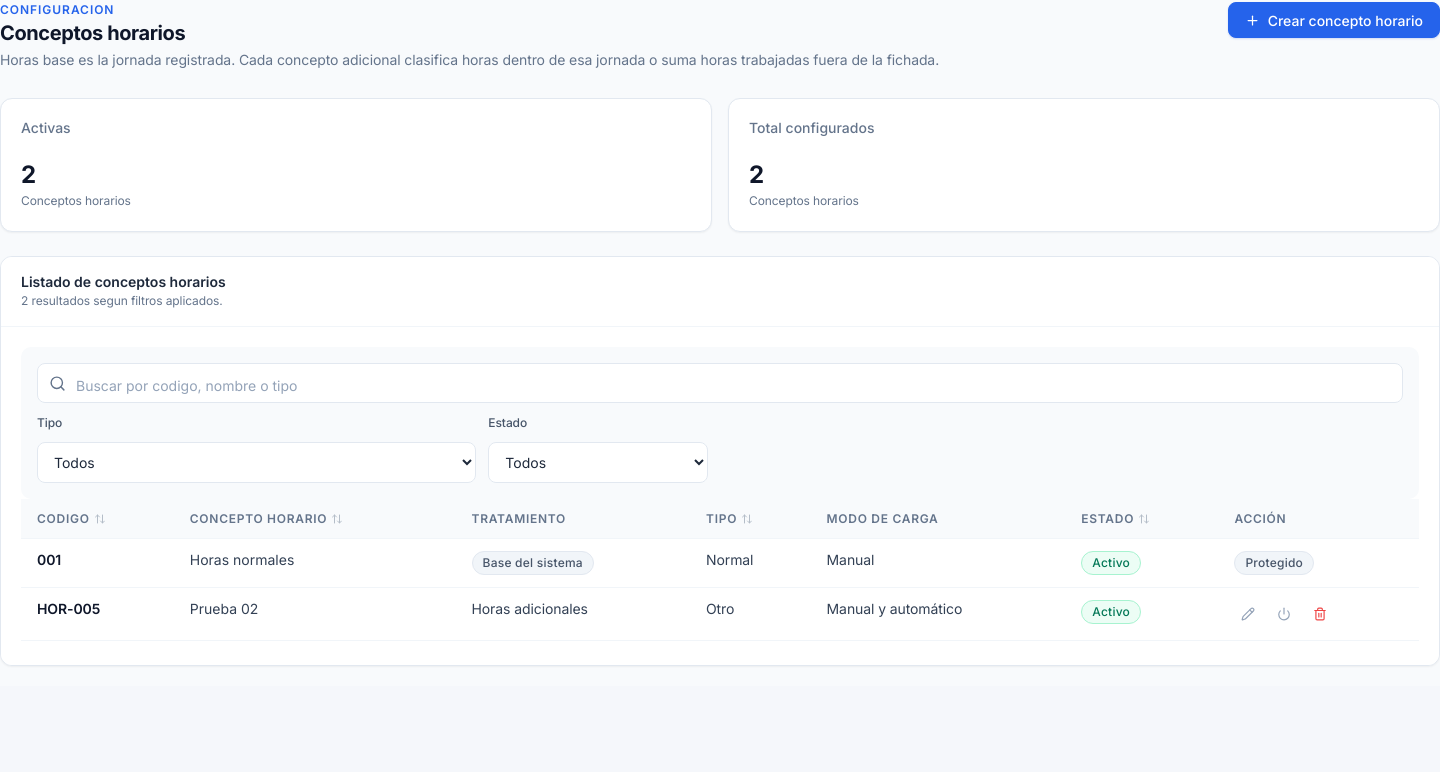
Scenario: HourConceptsPage — corregir tratamiento y eliminar definitivamente › cambiar el tratamiento de un concepto con horas se permite tras confirmar que reinterpreta lo ya cargado
Expected: the text "Prueba 02" is shown, [190,600,258,617]
Step 1. Click the button named "Editar" → coordinates (1248, 614), box [1234,600,1262,628]
(page scrolled)
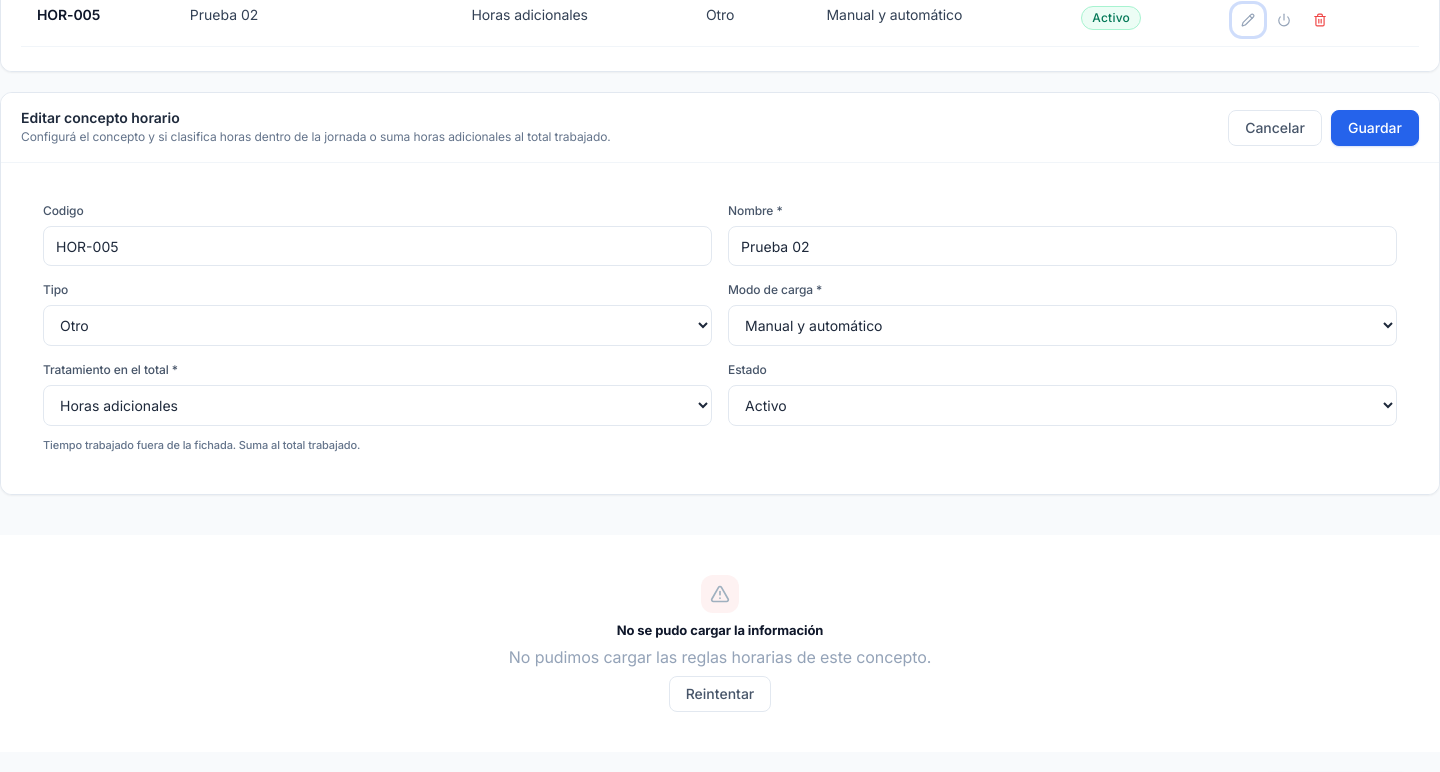
Step 2. Select "Dentro de la jornada" in the dropdown labelled "Tratamiento en el total" → coordinates (378, 406), box [43,385,712,426]
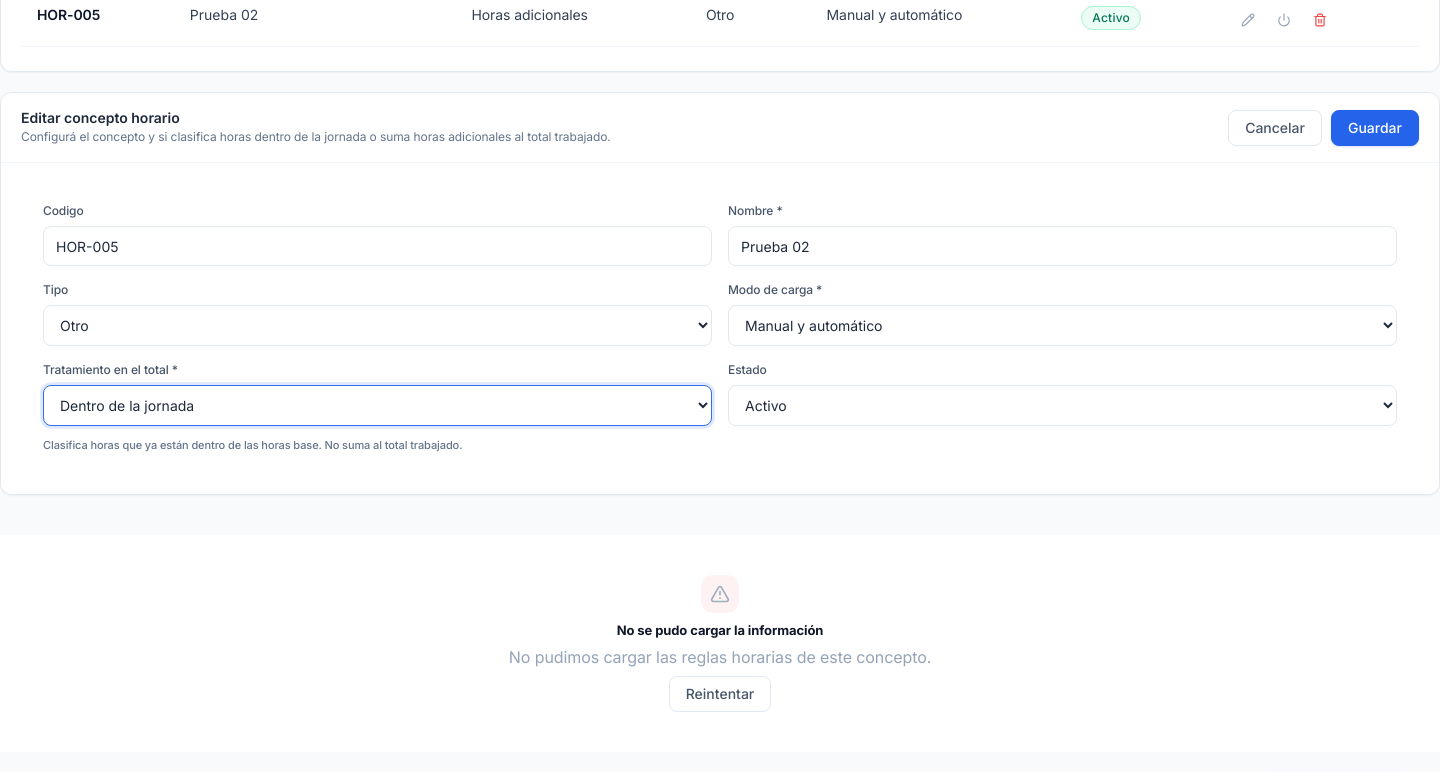
Step 3. Click the button "Guardar" → coordinates (1375, 128), box [1331,110,1419,146]
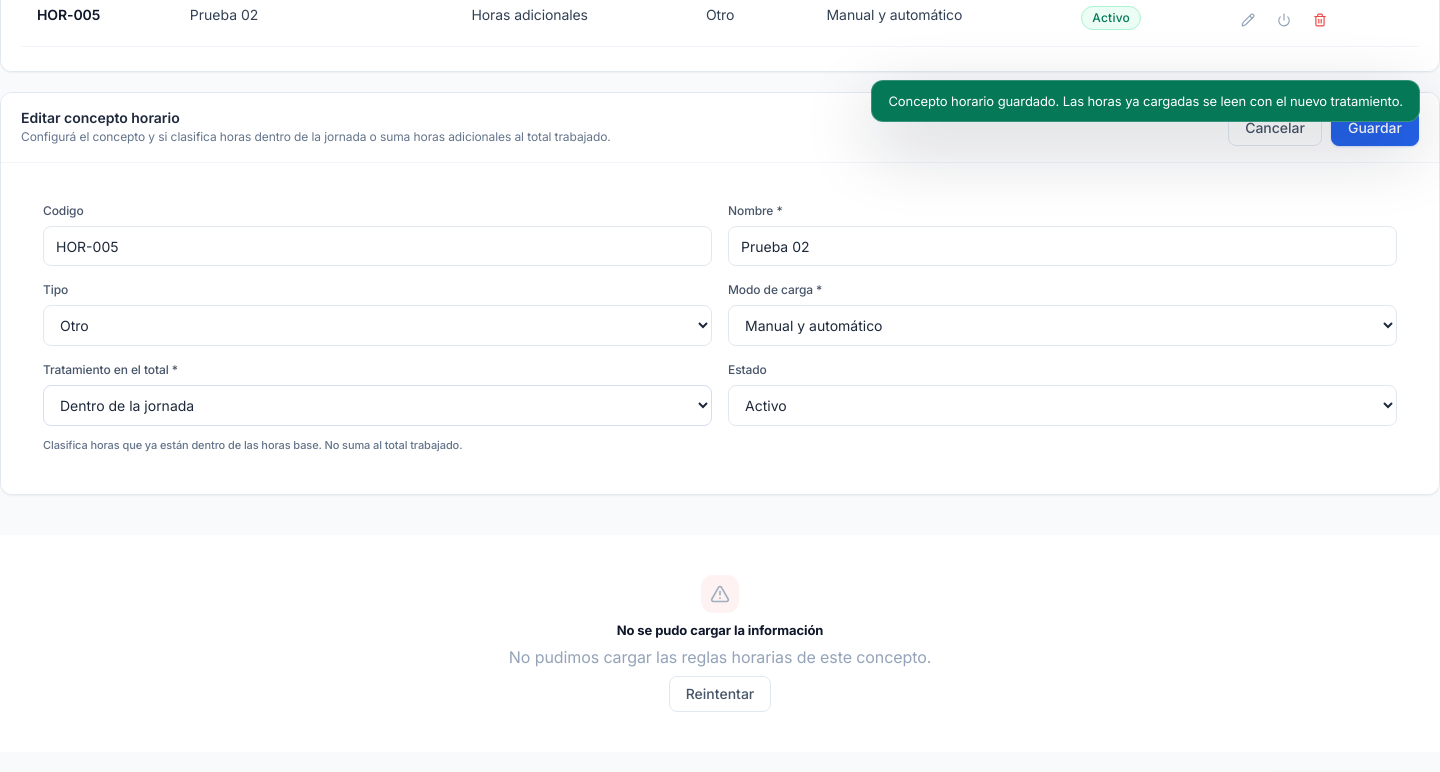
Expected: the text "Concepto horario guardado. Las horas ya cargadas se leen con el nuevo tratamiento." is shown, [888,93,1403,109]
